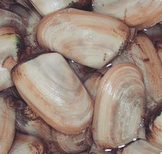tuatua: (10, 51, 93, 134), (34, 7, 132, 69), (92, 64, 144, 149)
